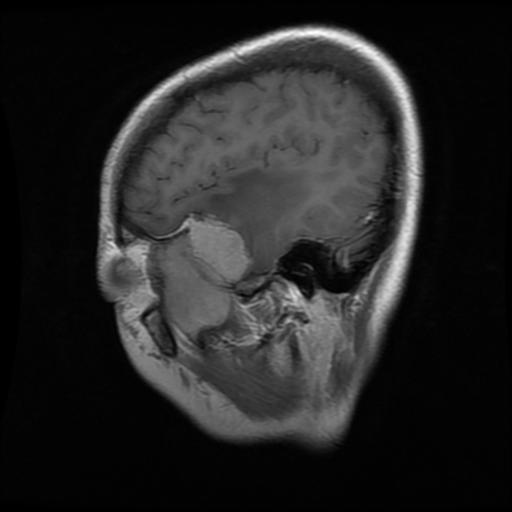Menigiomia_tumour: (184, 215, 252, 283)
